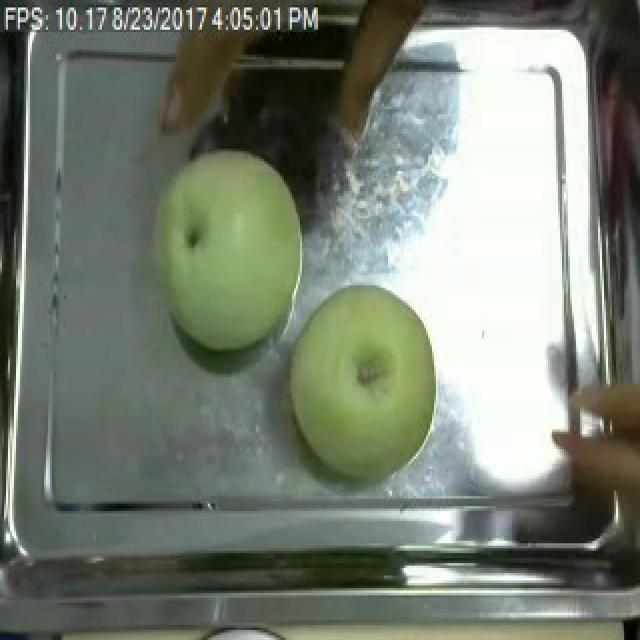50-_ripeness: (288, 274, 442, 495), (159, 154, 318, 367)
